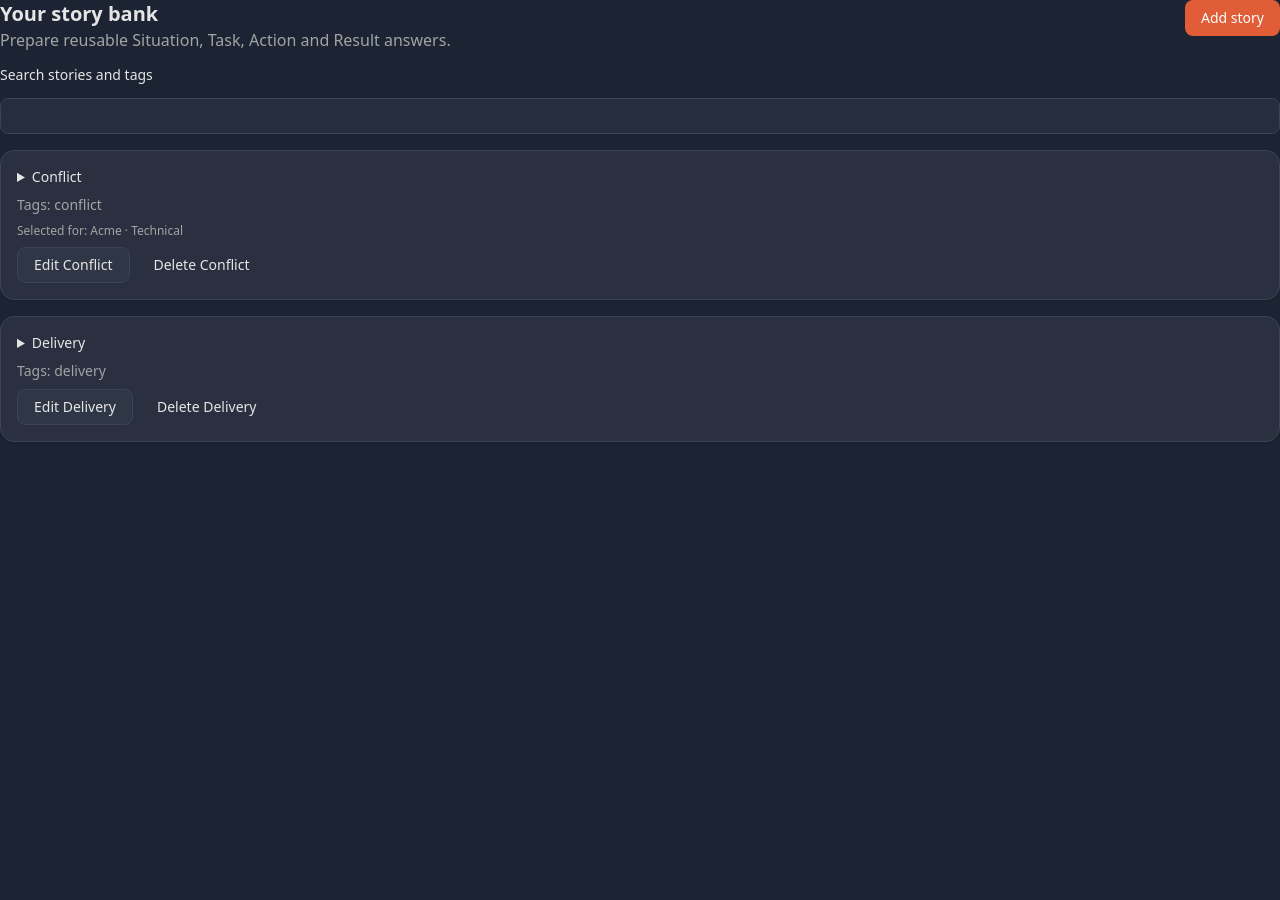
Test case: story bank UI › creates a partial STAR answer, normalises tags and searches the bank
Expected: the text "Selected for: Acme · Technical" is shown, [17,222,183,239]
Click the button "Add story" at (1232, 18), box [1185,0,1279,36]
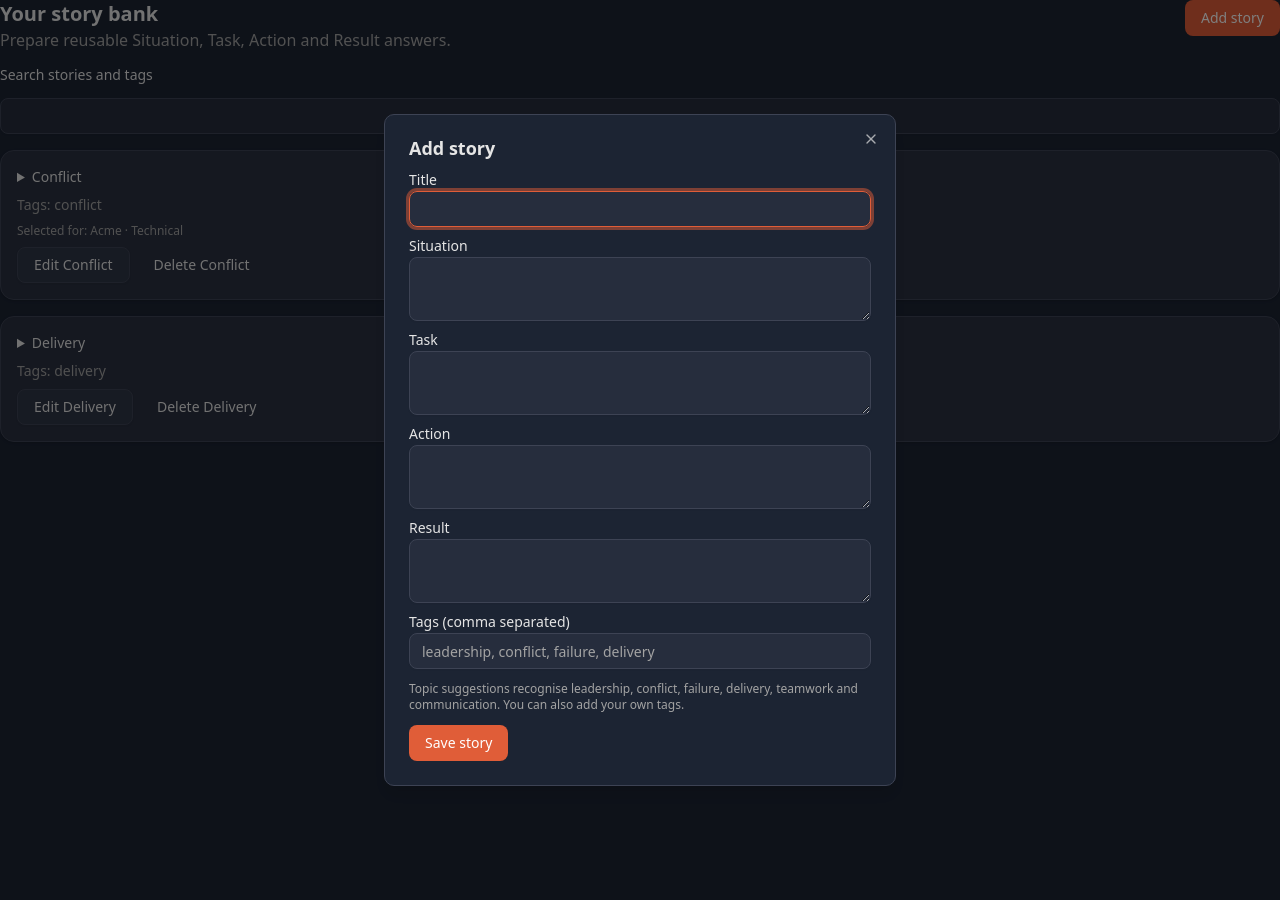
Type "Leading a team" into the field labelled "Title" at (640, 209), box [409,191,871,227]
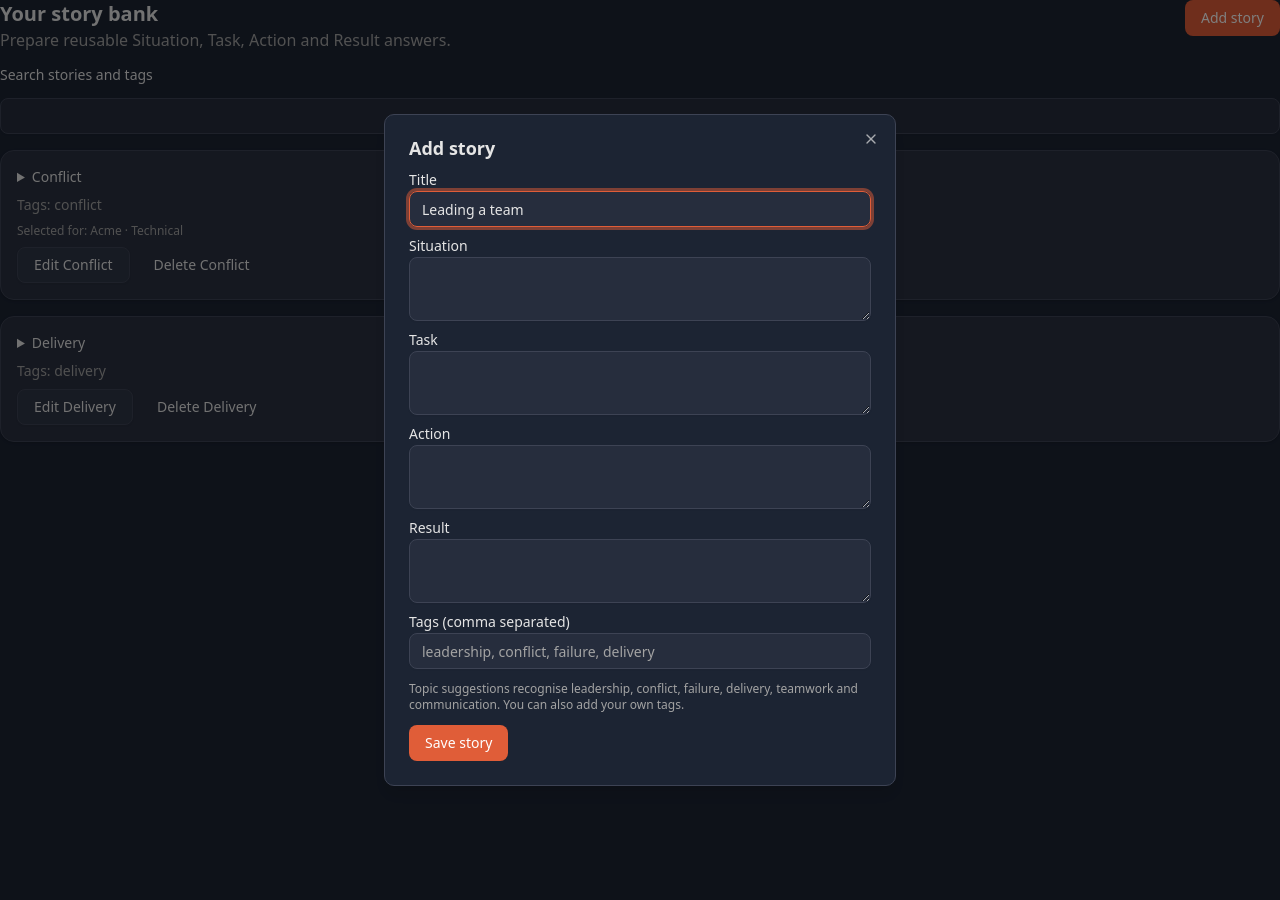
Type "We needed direction" into the text box labelled "situation" at (640, 289), box [409,257,871,321]
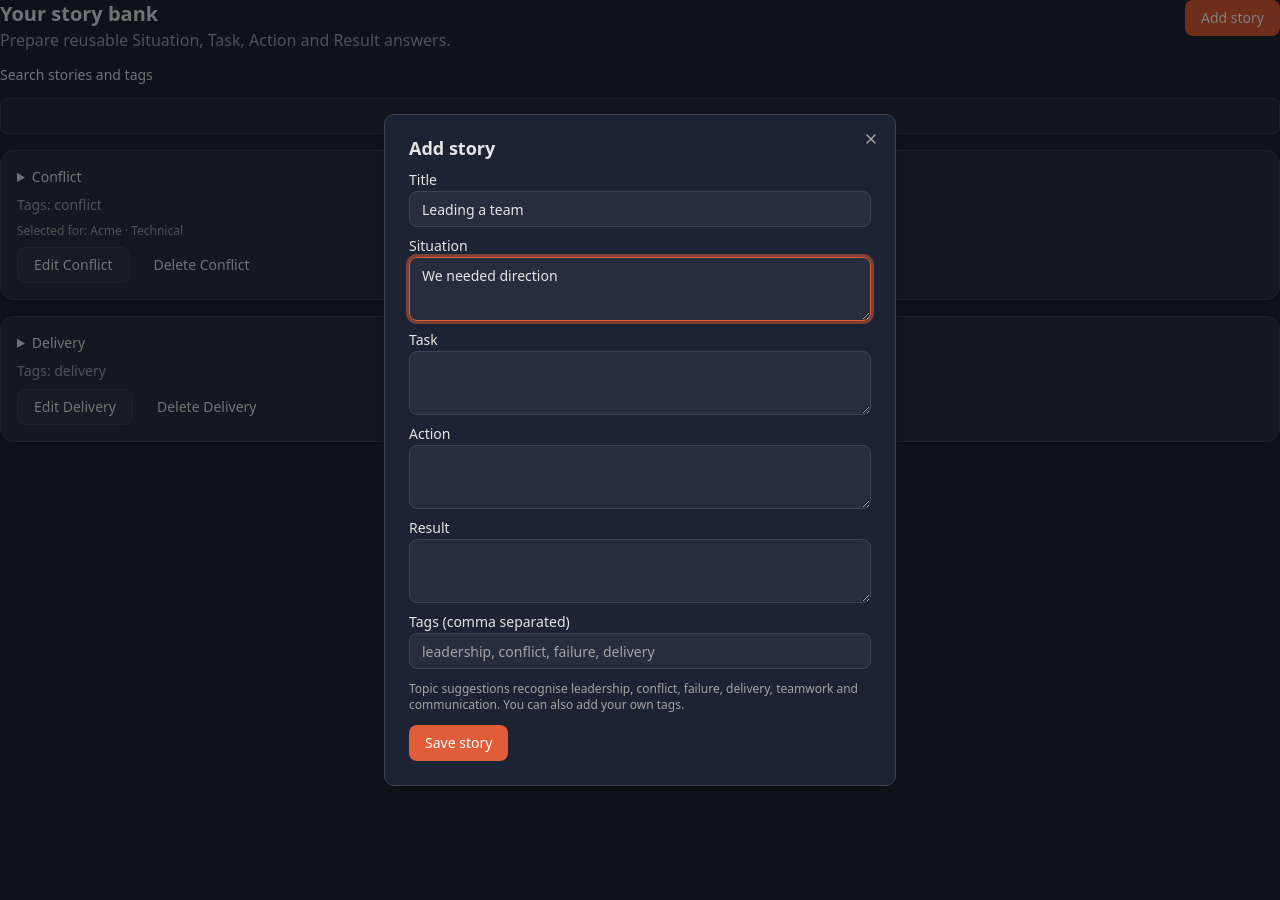
Type "Leadership, leadership" into the field labelled "Tags (comma separated)" at (640, 651), box [409,633,871,669]
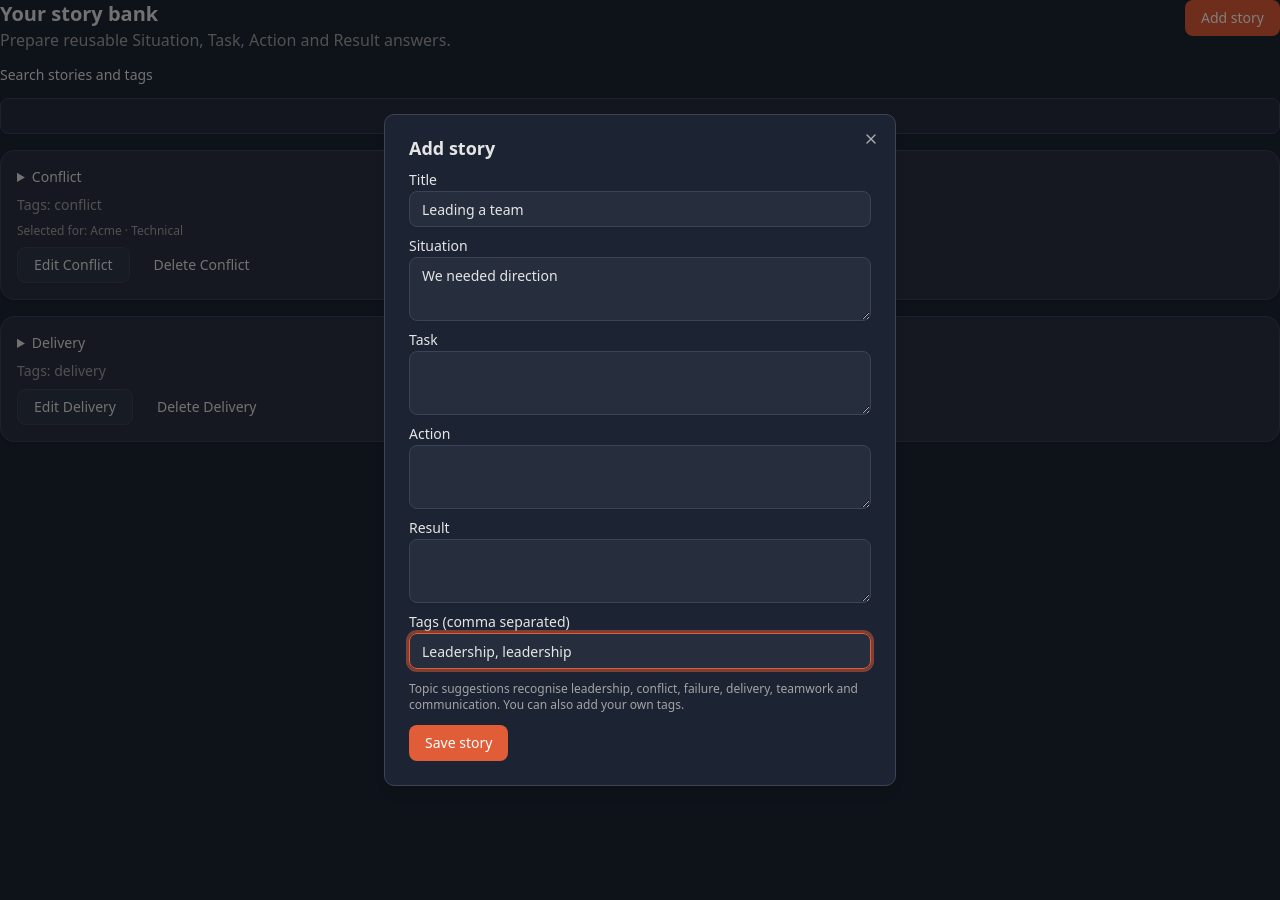
Click the button "Save story" at (459, 743), box [409,725,508,761]
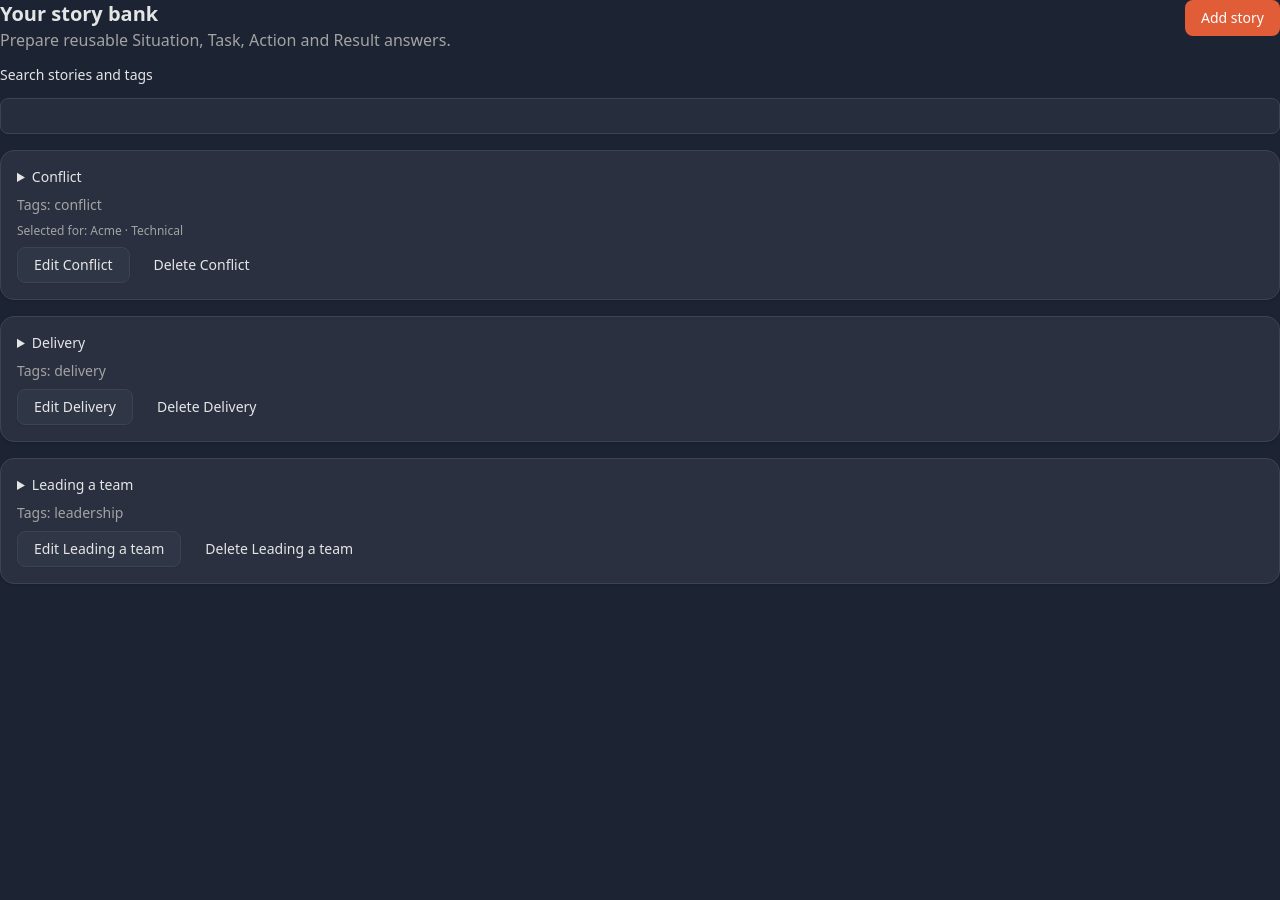
Result: the dialog is gone
Type "leadership" into the field labelled "Search stories and tags" at (640, 116), box [0,98,1279,134]
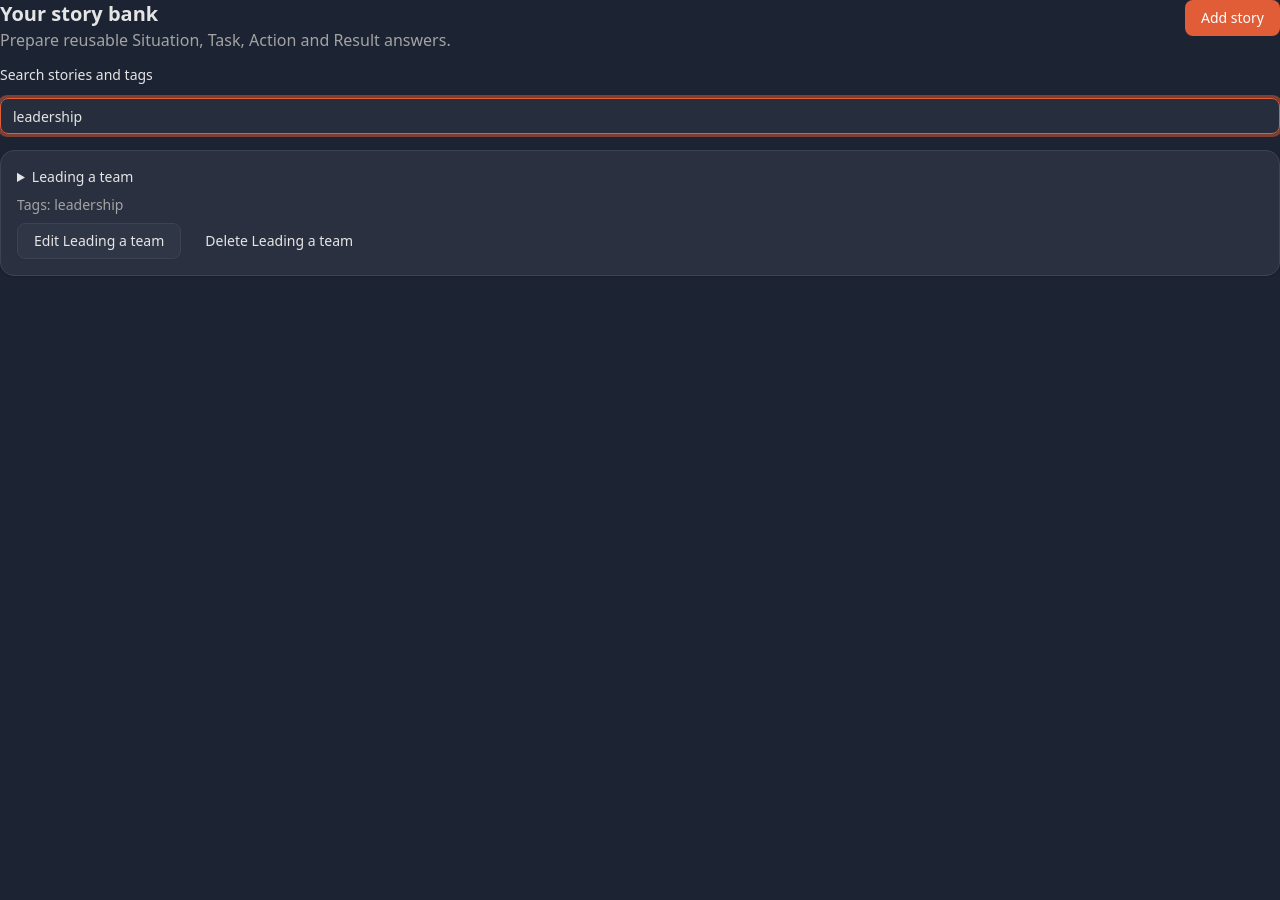
Result: the heading "Leading a team" is shown at [32,167,133,186]
Result: the heading "Conflict" is gone
